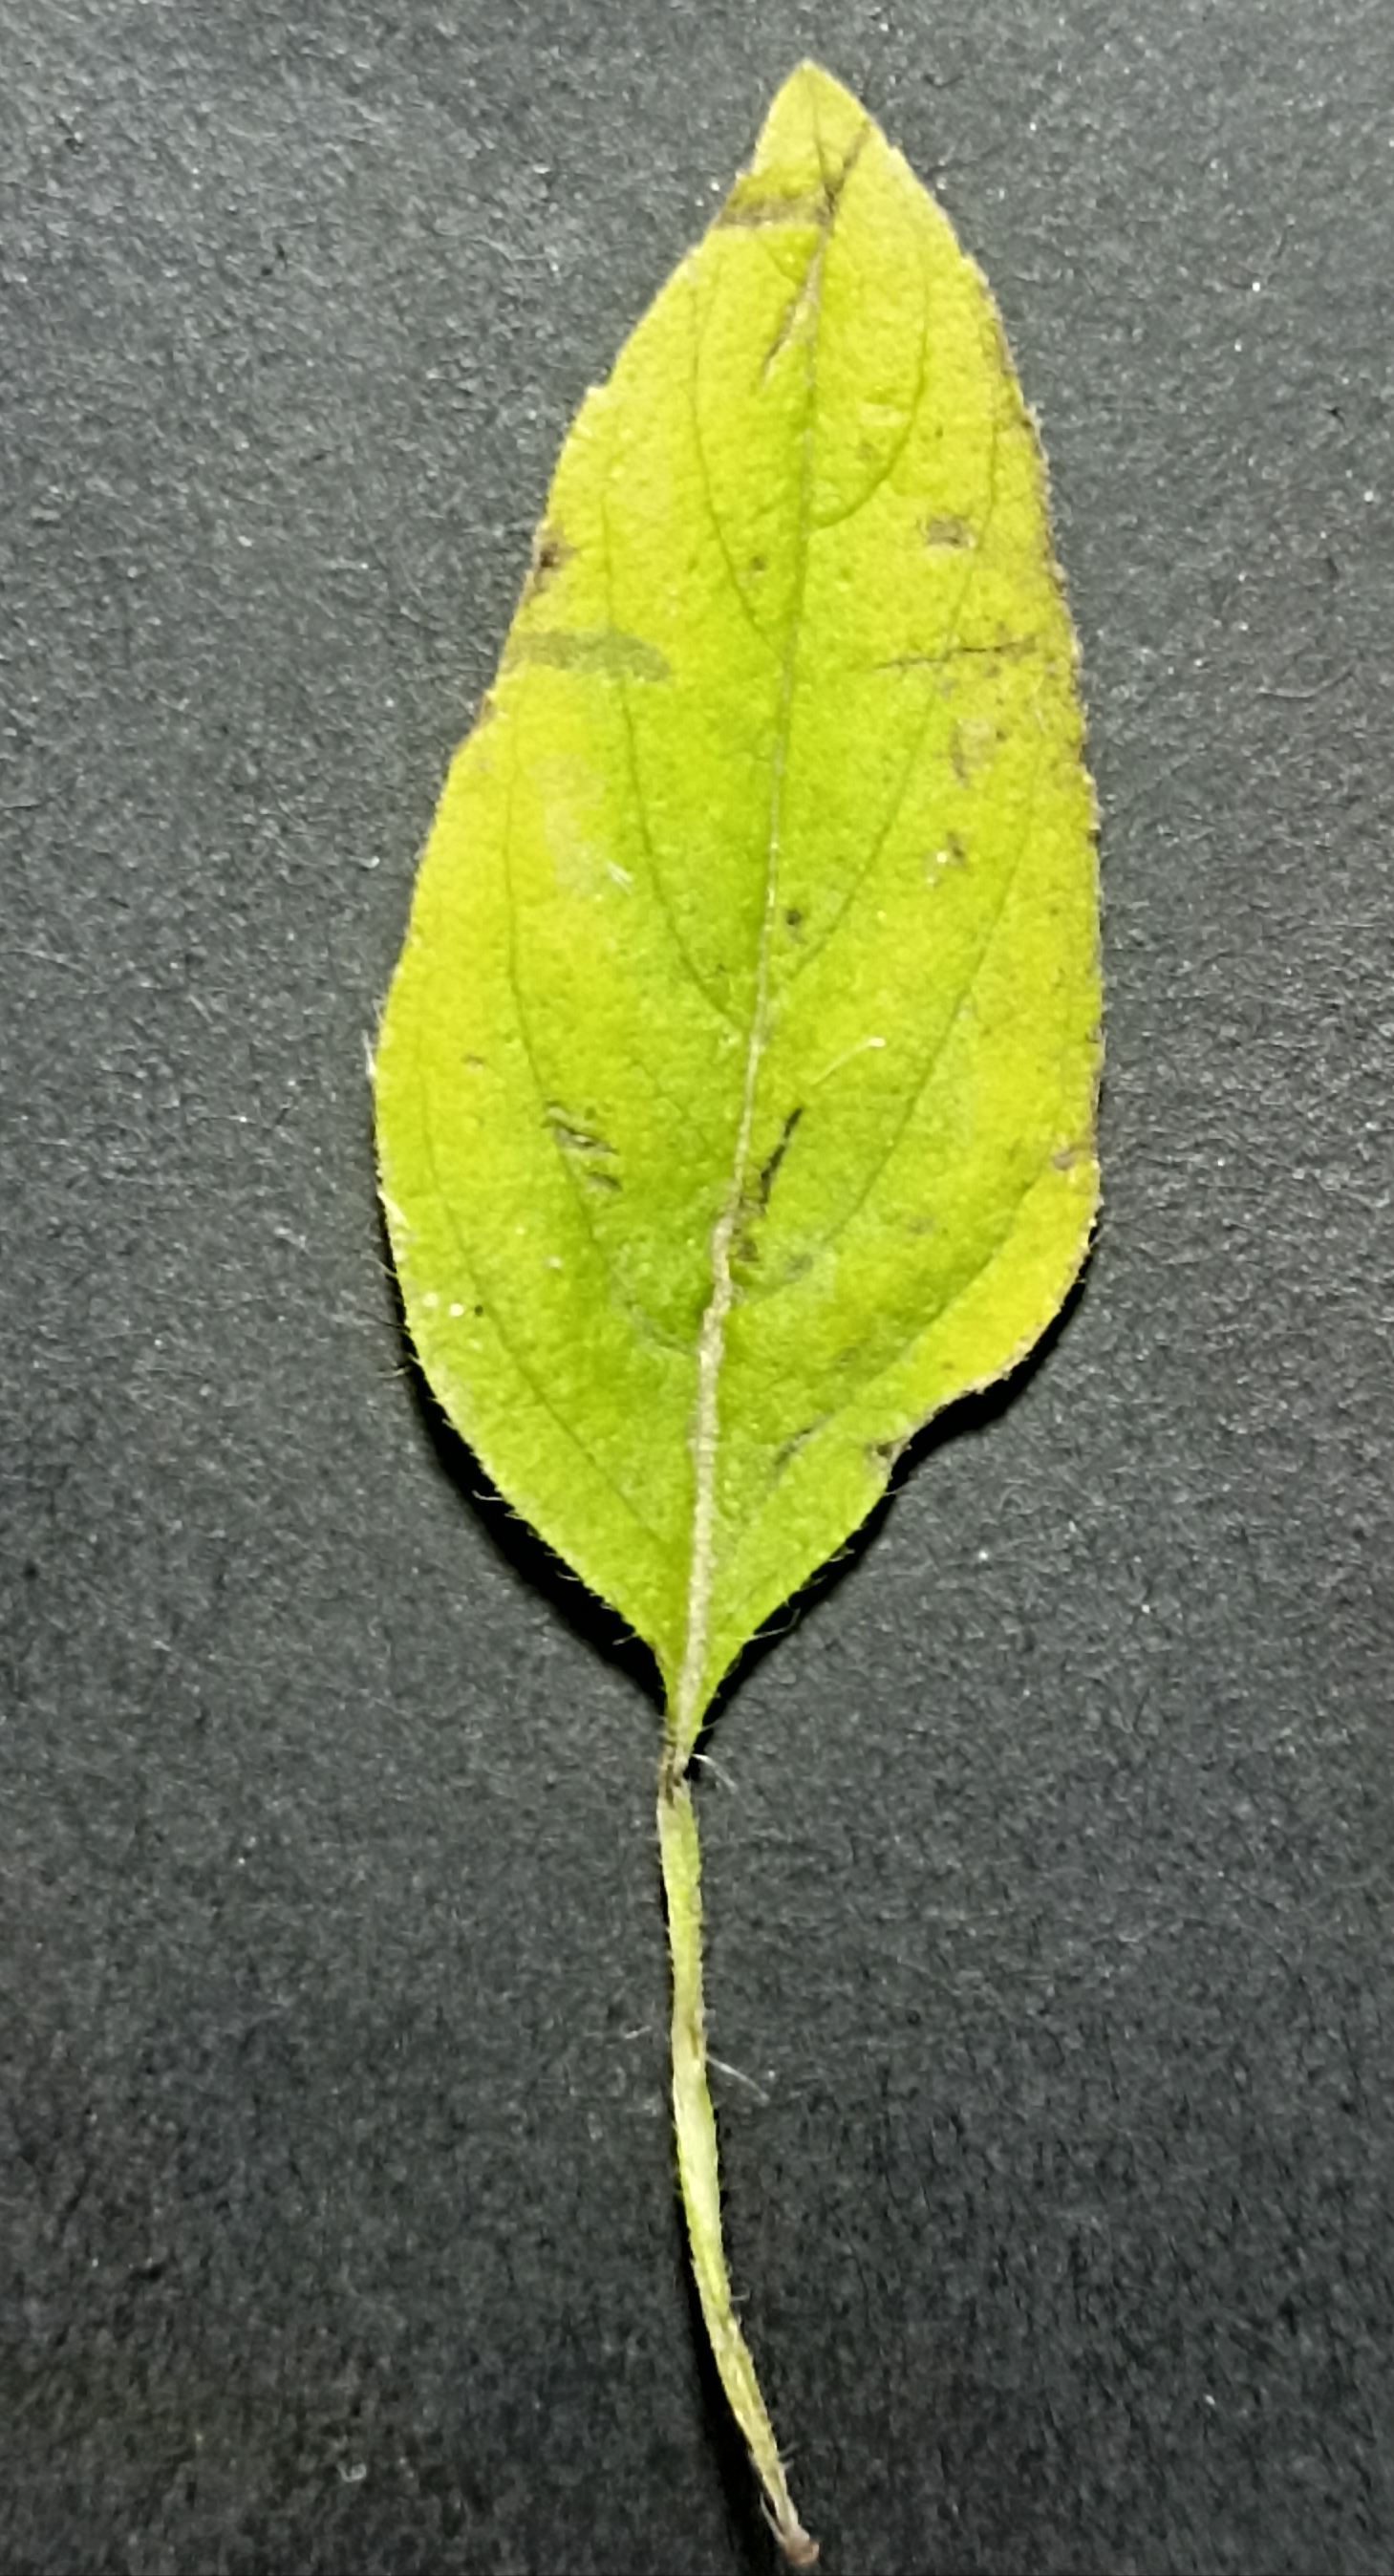Unhealthy: (343, 53, 1128, 1627)
